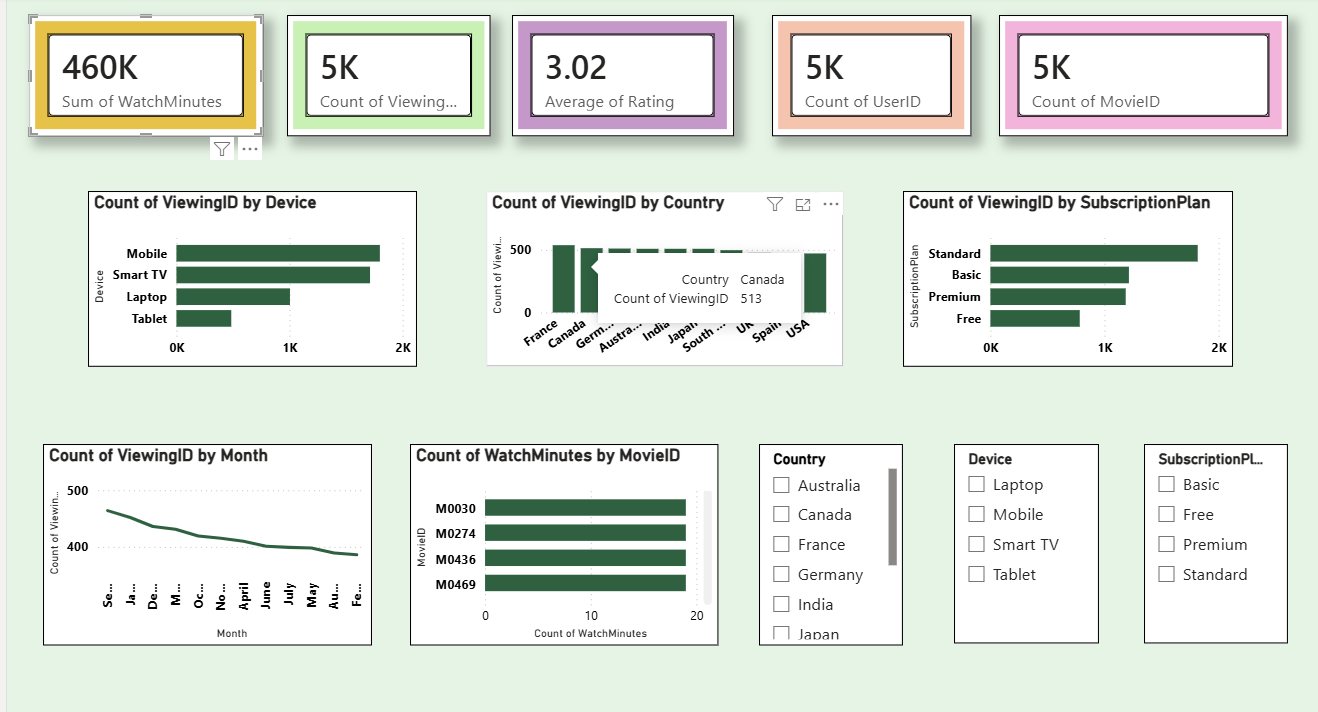

What the dashboard file says about the page in this screenshot:
{"tool":"powerbi","page":{"name":"Page 1","canvas":[1280,720],"ordinal":0},"visuals":[{"type":"cardVisual","fields":{"Data":["CountNonNull(Sheet1.ViewingID)"]},"box":[272.3,17.5,198.4,117.7],"z":0},{"type":"cardVisual","fields":{"Data":["CountNonNull(Sheet1.MovieID)"]},"box":[964.9,17.5,281.1,117.7],"z":1},{"type":"cardVisual","fields":{"Data":["CountNonNull(Sheet1.UserID)"]},"box":[744.1,17.5,193.6,117.7],"z":2},{"type":"cardVisual","fields":{"Data":["Avg(Sheet1.Rating)"]},"box":[491.2,17.5,215.9,117.7],"z":3},{"type":"cardVisual","fields":{"Data":["Sum(Sheet1.WatchMinutes)"]},"box":[21.4,17.5,227.6,117.7],"z":4},{"type":"barChart","fields":{"Category":["Sheet1.Device"],"Y":["CountNonNull(Sheet1.ViewingID)"]},"box":[78.8,188.7,320,171.2],"z":5},{"type":"columnChart","fields":{"Category":["Sheet1.Country"],"Y":["CountNonNull(Sheet1.ViewingID)"]},"box":[465.9,188.7,348.2,171.2],"z":6},{"type":"barChart","fields":{"Category":["Sheet1.SubscriptionPlan"],"Y":["CountNonNull(Sheet1.ViewingID)"]},"box":[871.5,188.7,321,171.2],"z":7},{"type":"lineChart","fields":{"Category":["Sheet1.Month"],"Y":["CountNonNull(Sheet1.ViewingID)"]},"box":[35,434.8,320,195.5],"z":8},{"type":"barChart","fields":{"Category":["Sheet1.MovieID"],"Y":["CountNonNull(Sheet1.WatchMinutes)"]},"box":[392,434.8,299.6,195.5],"z":9},{"type":"slicer","fields":{"Values":["Sheet1.Country"]},"box":[731.4,434.8,140.1,195.5],"z":10},{"type":"slicer","fields":{"Values":["Sheet1.Device"]},"box":[921.1,434.8,141,193.6],"z":11},{"type":"slicer","fields":{"Values":["Sheet1.SubscriptionPlan"]},"box":[1105.9,434.8,140.1,193.6],"z":12}]}

Visuals, with their boxes in screenshot pixels (x1, y1, x2, y2):
cardVisual - CountNonNull(Sheet1.ViewingID): [292, 18, 492, 136]
cardVisual - CountNonNull(Sheet1.MovieID): [991, 18, 1274, 136]
cardVisual - CountNonNull(Sheet1.UserID): [768, 18, 963, 136]
cardVisual - Avg(Sheet1.Rating): [513, 18, 731, 136]
cardVisual - Sum(Sheet1.WatchMinutes): [39, 18, 268, 136]
barChart - Sheet1.Device x CountNonNull(Sheet1.ViewingID): [97, 190, 420, 363]
columnChart - Sheet1.Country x CountNonNull(Sheet1.ViewingID): [487, 190, 839, 363]
barChart - Sheet1.SubscriptionPlan x CountNonNull(Sheet1.ViewingID): [896, 190, 1220, 363]
lineChart - Sheet1.Month x CountNonNull(Sheet1.ViewingID): [52, 439, 375, 636]
barChart - Sheet1.MovieID x CountNonNull(Sheet1.WatchMinutes): [413, 439, 715, 636]
slicer - Sheet1.Country: [755, 439, 896, 636]
slicer - Sheet1.Device: [946, 439, 1089, 634]
slicer - Sheet1.SubscriptionPlan: [1133, 439, 1274, 634]
